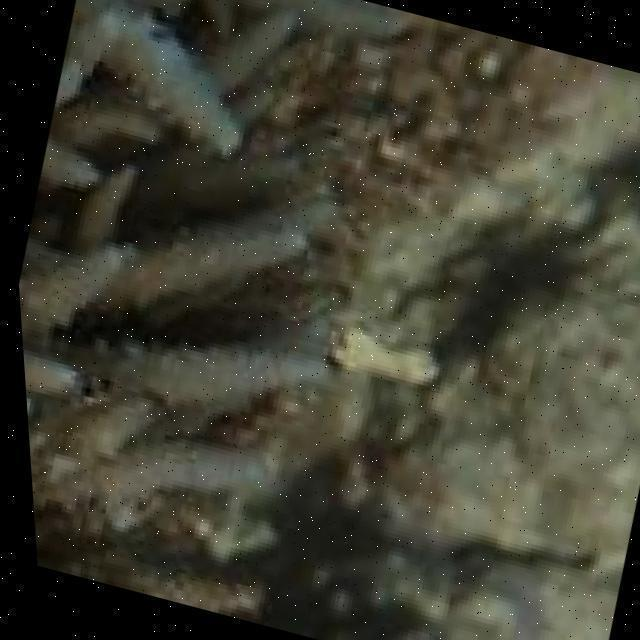Healthy Coral: (28, 0, 356, 605)
